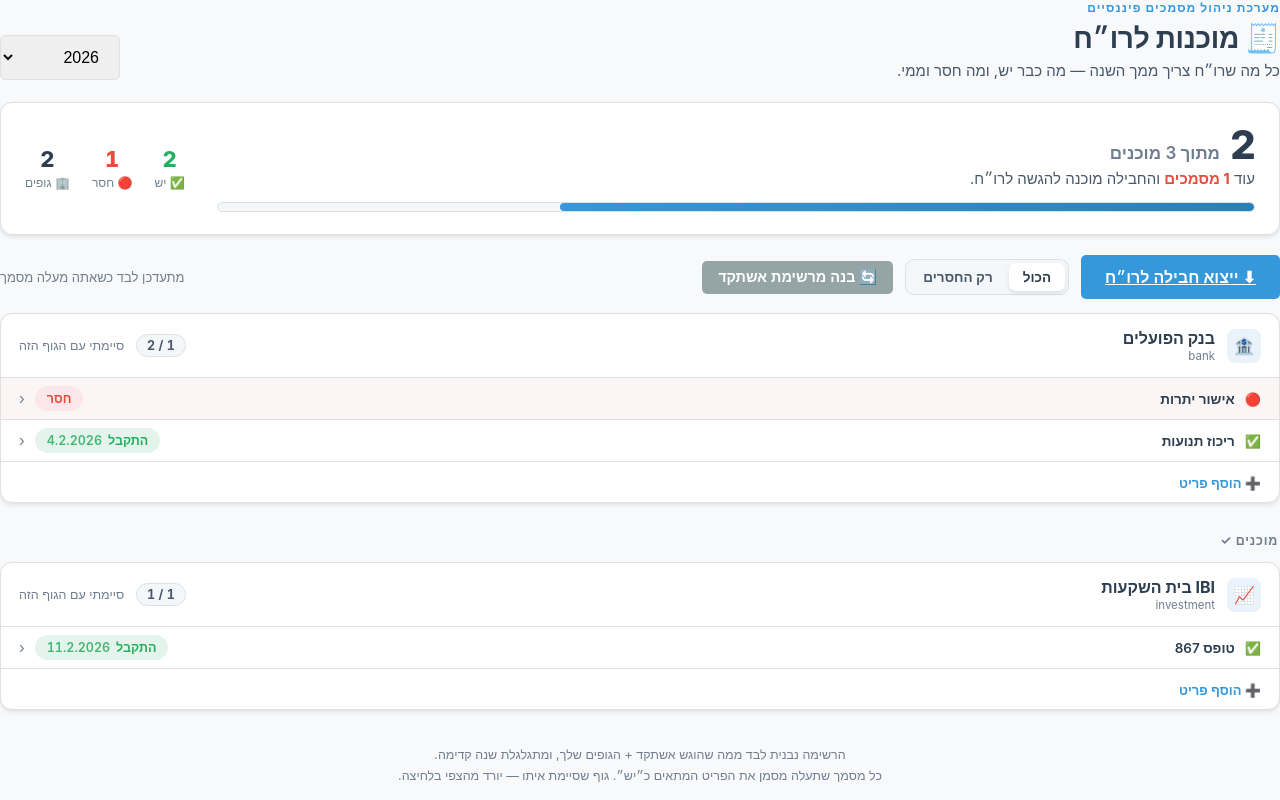
it: ReadinessPage › לחיצה על שורת פריט שהתקבל פותחת פופאפ עם קישור לפתיחת קובץ
Click the text "ריכוז תנועות". click: (1198, 440)
box: top-left (1162, 432), bottom-right (1235, 448)
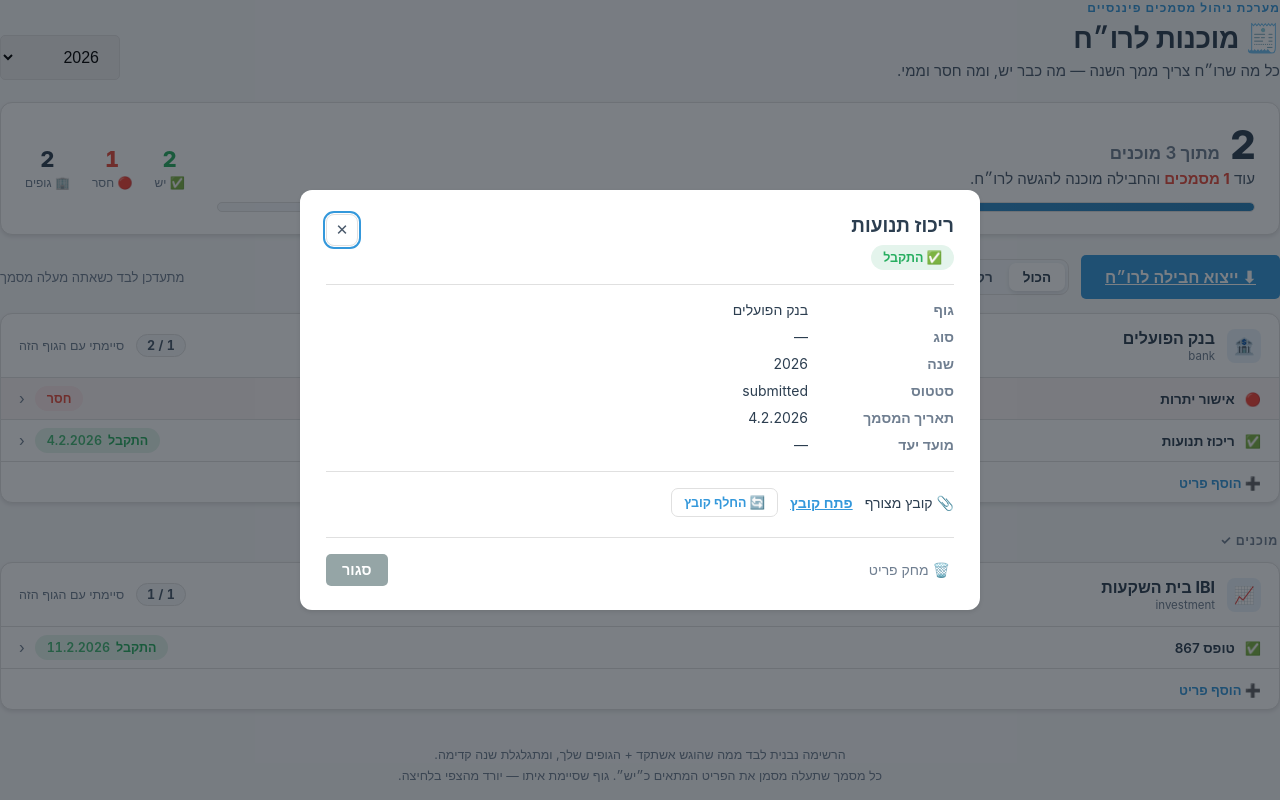
Click the button named "סגור". click: (342, 230)
box: top-left (326, 214), bottom-right (358, 246)
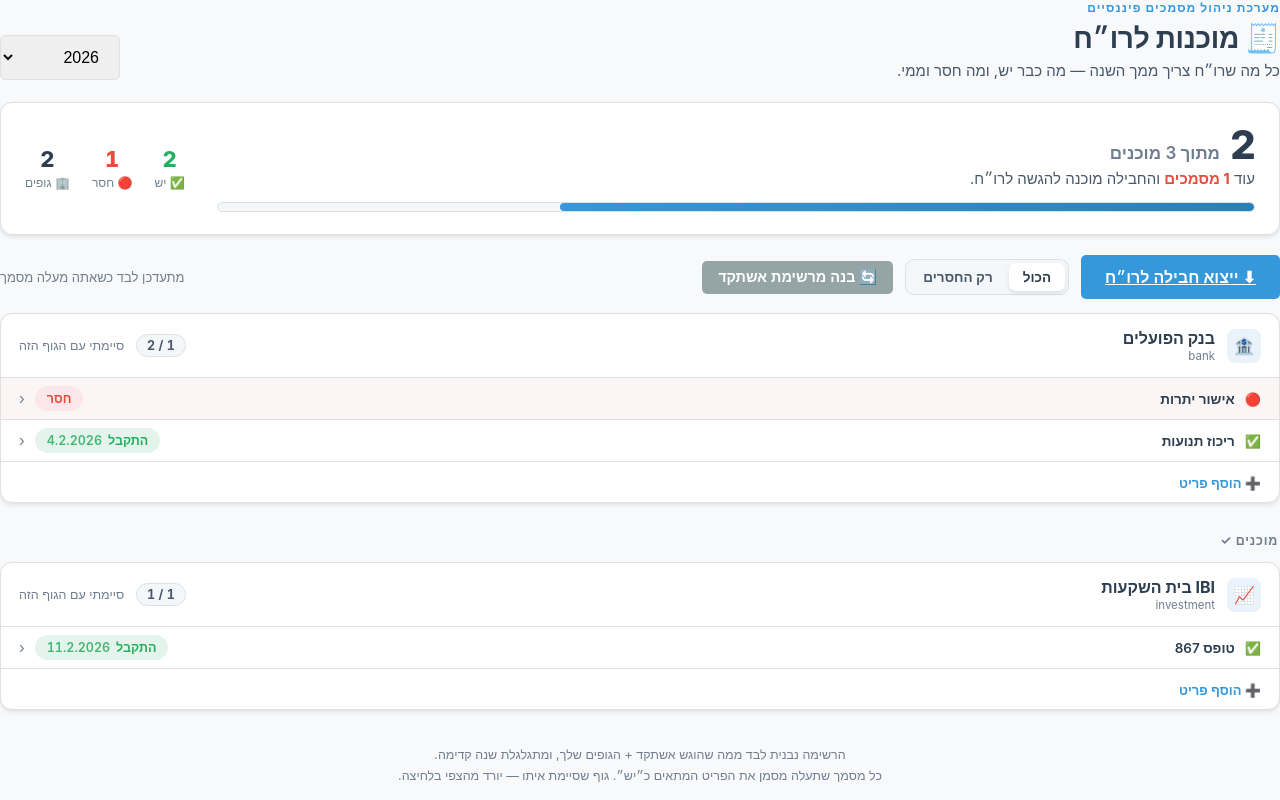
Now the dialog is gone
